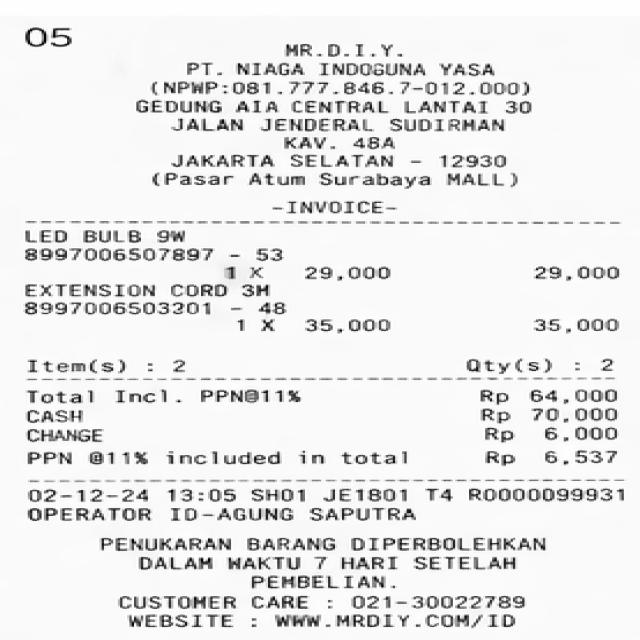date: (23, 485, 244, 505)
store: (273, 37, 412, 61)
total: (25, 384, 634, 404)
